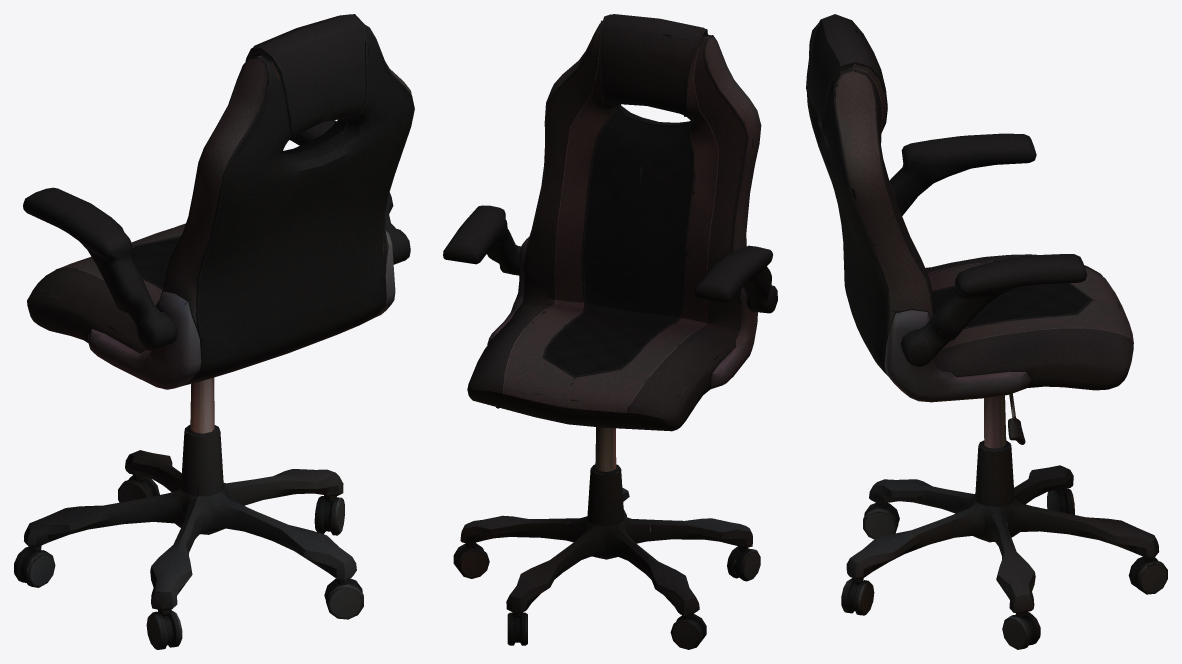
Rendered from chair.glb.
The picture shows the model from 3 angles, left to right: view 1: azimuth 30°, elevation 25°; view 2: azimuth 150°, elevation 25°; view 3: azimuth 270°, elevation 25°; orthographic projection. The views are drawn at different scales.
Parts seen in each view (by area): view 1: Hydrolic; view 2: Hydrolic; view 3: Hydrolic.
Boxes of the visible parts, x1=… form: Hydrolic: x1=14, y1=14, x2=414, y2=649; Hydrolic: x1=443, y1=14, x2=777, y2=649; Hydrolic: x1=806, y1=14, x2=1167, y2=649.
Size of the model in its own units: 0.9382 by 1.65 by 0.9713.
Materials: 1 (1 with a texture image).
